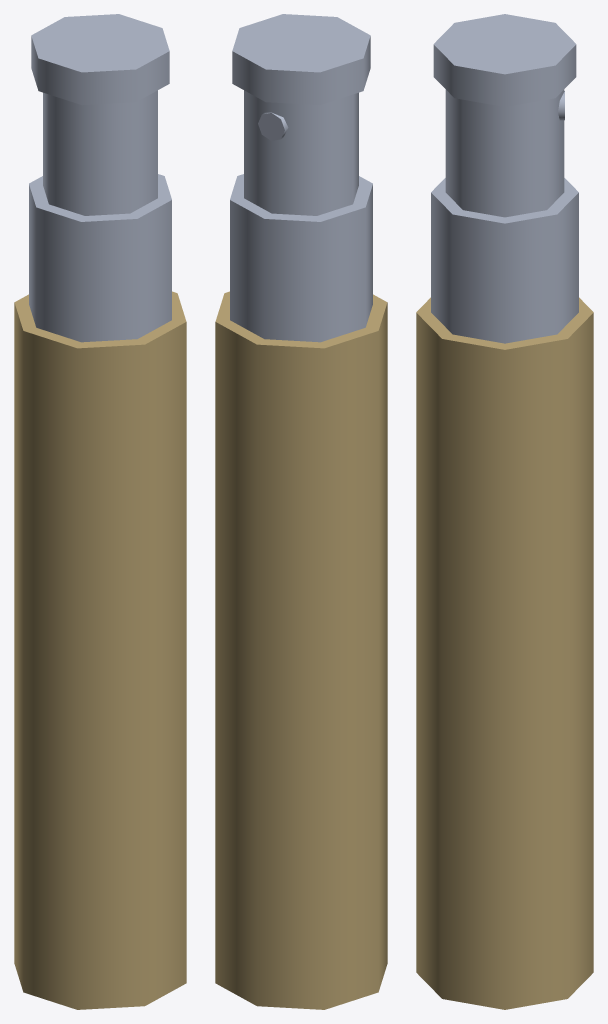
File: Bottle Perfume.glb
3 renders of one model, left to right at view 1: azimuth 30°, elevation 25°; view 2: azimuth 150°, elevation 25°; view 3: azimuth 270°, elevation 25°, orthographic.
Visible parts, largest first — view 1: bottle_perfume.001, bottle_perfume_top.001; view 2: bottle_perfume.001, bottle_perfume_top.001; view 3: bottle_perfume.001, bottle_perfume_top.001.
Part boxes in pixels (<box>): bottle_perfume.001: <box>14,174,186,1009</box>; bottle_perfume_top.001: <box>31,14,169,215</box>; bottle_perfume.001: <box>215,174,387,1009</box>; bottle_perfume_top.001: <box>232,14,370,215</box>; bottle_perfume.001: <box>416,178,593,1009</box>; bottle_perfume_top.001: <box>433,14,576,217</box>.
Bounding box in the file's own units: 4.08 × 23.53 × 4.08.
2 materials, 2 textured.
